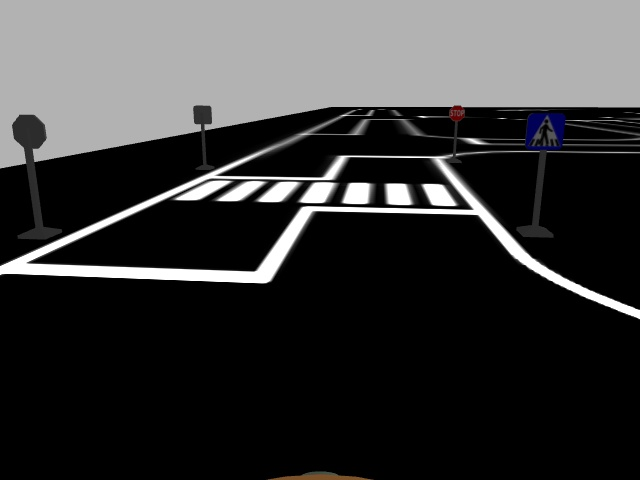crosswalk: (525, 110, 564, 153)
stop: (447, 105, 467, 123)
